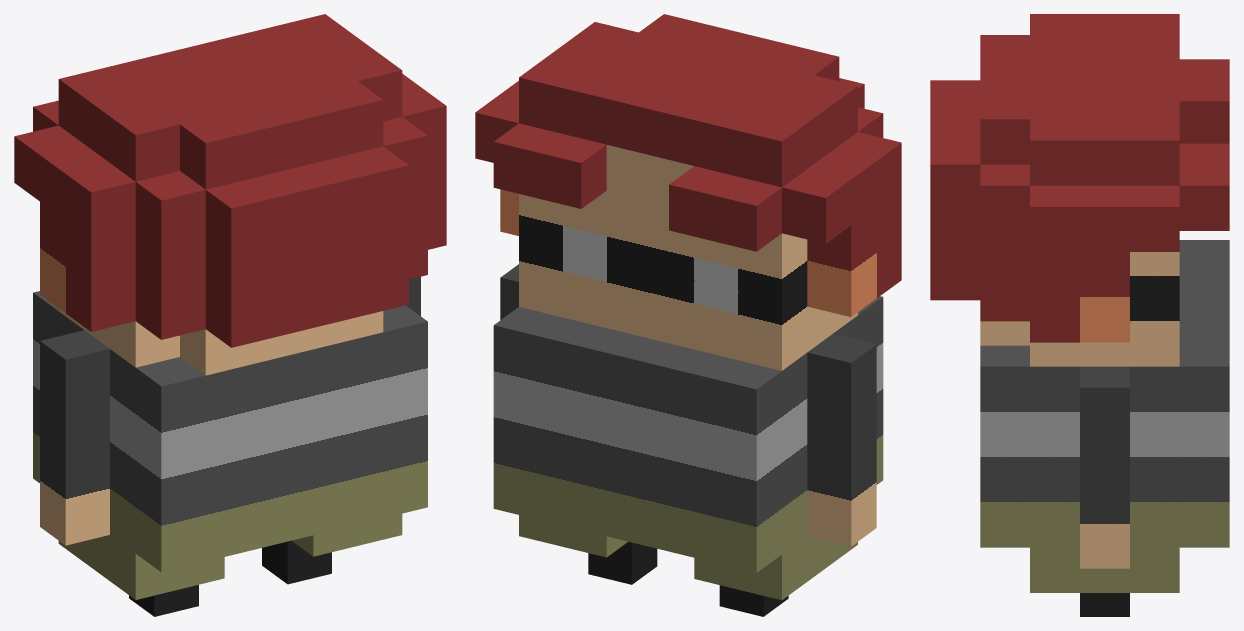
Rendered from chr_thief.dae.
The picture shows the model from 3 angles, left to right: view 1: azimuth 30°, elevation 25°; view 2: azimuth 150°, elevation 25°; view 3: azimuth 270°, elevation 25°; orthographic projection. The views are drawn at different scales.
Parts seen in each view (by area): view 1: chr_thief; view 2: chr_thief; view 3: chr_thief.
Part boxes in pixels (left/top/right/bottom): chr_thief: left=14, top=14, right=446, bottom=616; chr_thief: left=475, top=14, right=901, bottom=616; chr_thief: left=930, top=14, right=1229, bottom=616.
Bounding box in the file's own units: 0.8 × 0.6 × 1.1.
Materials: 1 (1 with a texture image).
